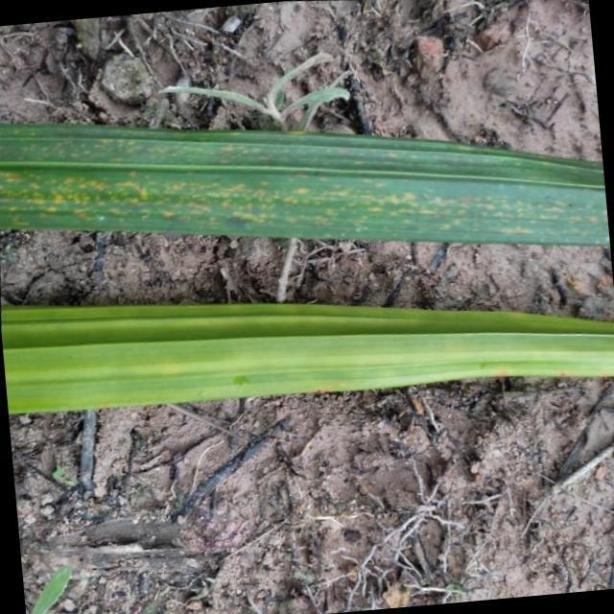nitrogen: (0, 109, 614, 240), (1, 295, 614, 414)
